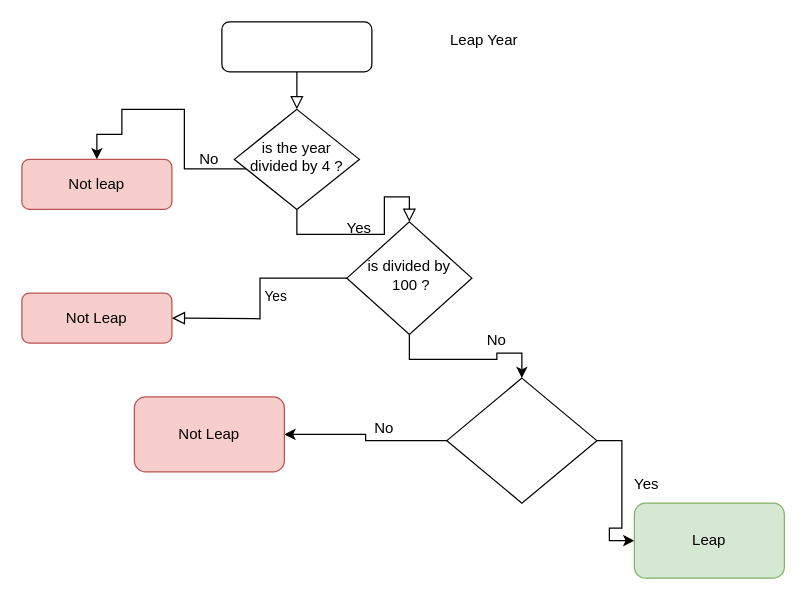
Some shapes in this 806 by 600 pixel diagram are drawn without their labels. Each missing label, with the centre of its shape:
"Is Divided by 400?" belongs at pixel 521 440.
"START" belongs at pixel 296 46.
